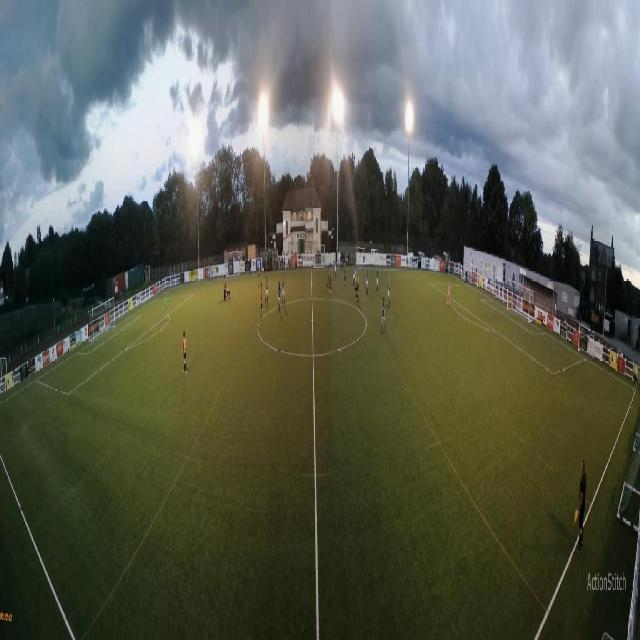ball: (235, 294, 236, 300)
player: (181, 330, 188, 377), (381, 296, 386, 334), (264, 276, 269, 305), (282, 276, 286, 308), (387, 276, 391, 308), (277, 281, 281, 312), (328, 265, 332, 294), (354, 274, 358, 303), (164, 291, 168, 318), (446, 281, 450, 307), (376, 265, 379, 295), (366, 268, 369, 295), (327, 264, 330, 289), (352, 264, 355, 289), (343, 261, 346, 285), (226, 289, 232, 300), (258, 264, 261, 286), (223, 274, 227, 290), (357, 271, 359, 302), (223, 287, 227, 302), (261, 282, 263, 312), (334, 258, 336, 279), (354, 261, 356, 277)
